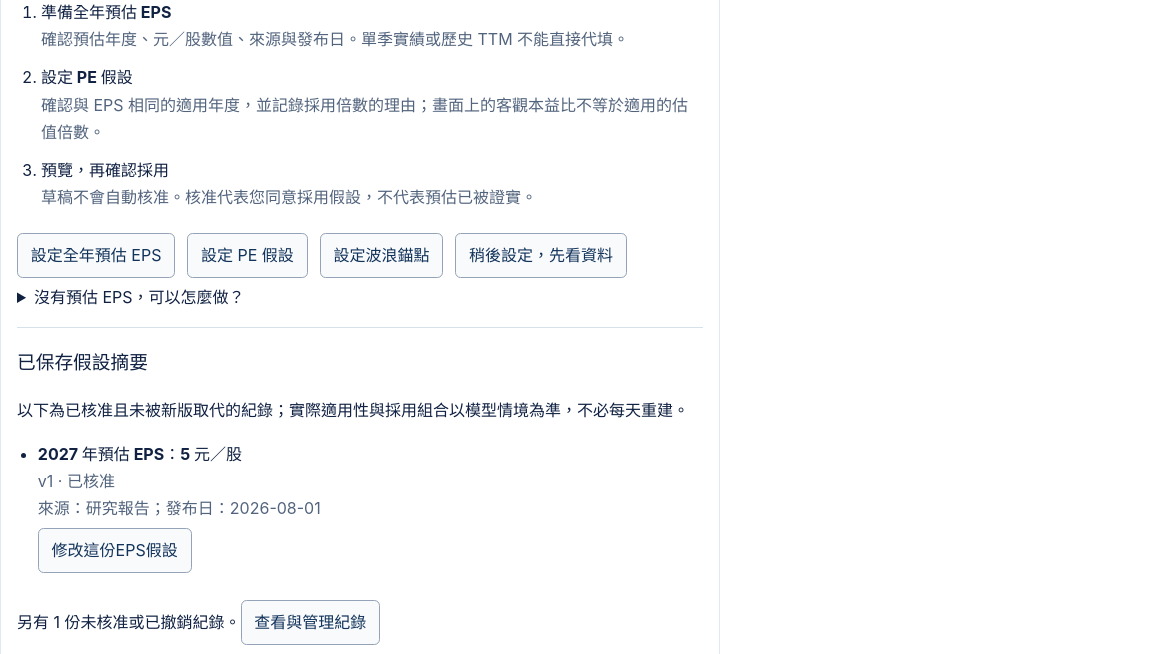
LocalAssumptionEditor › summarizes approved revisions and opens their existing values for revision
(page scrolled)
Expected: the text "2027 年預估 EPS：5 元／股" is shown, [38, 444, 242, 464]
Click the button "修改這份EPS假設". click: coordinates (115, 550)
box: [38, 528, 192, 573]
(page scrolled)
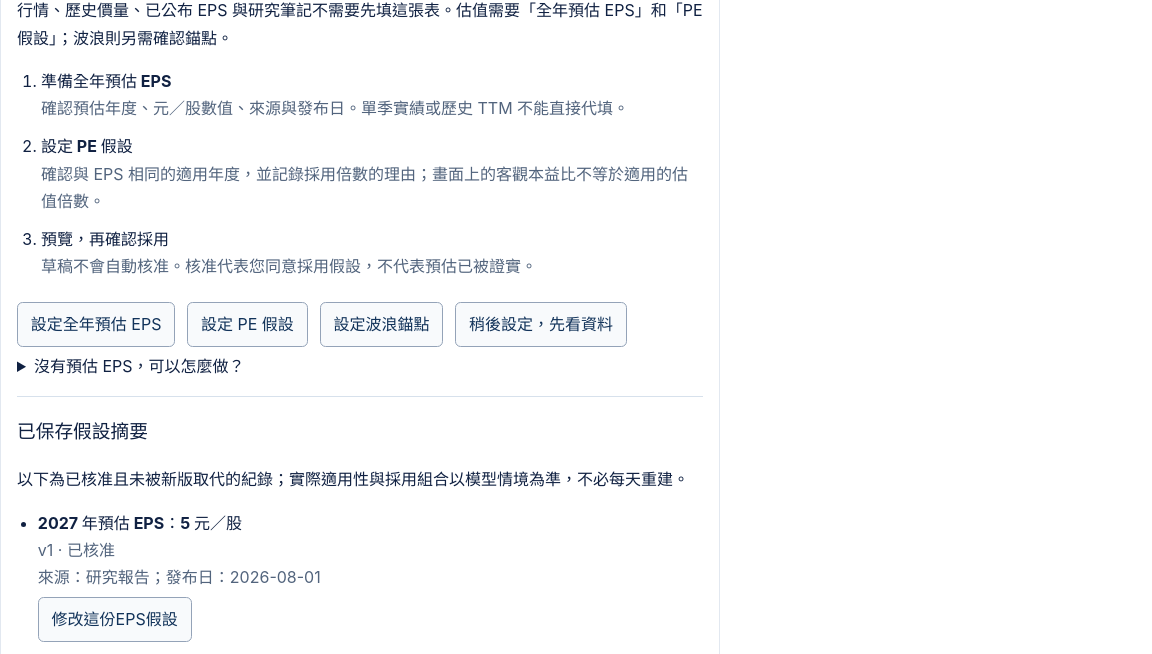
Click the button "稍後設定，先看資料". click: coordinates (541, 325)
box: [455, 302, 627, 347]
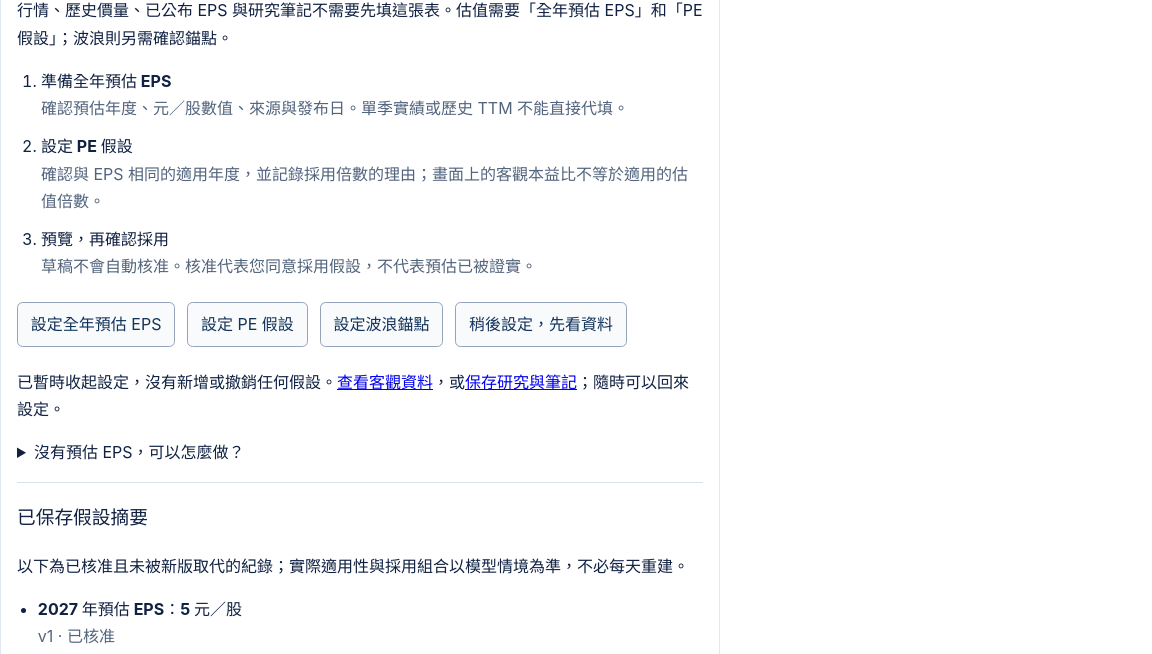
Click the button "設定全年預估 EPS". click: coordinates (96, 325)
box: [17, 302, 175, 347]
(page scrolled)
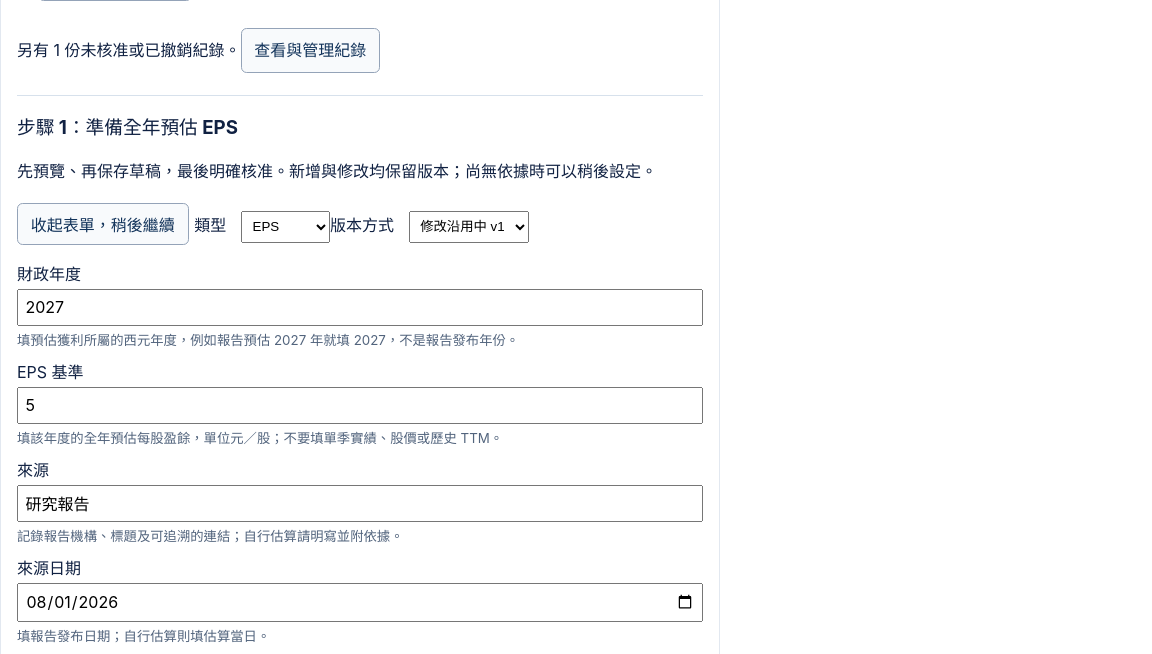
Expected: the dropdown labelled "版本方式" shows "修改沿用中 v1", [409, 211, 529, 243]
